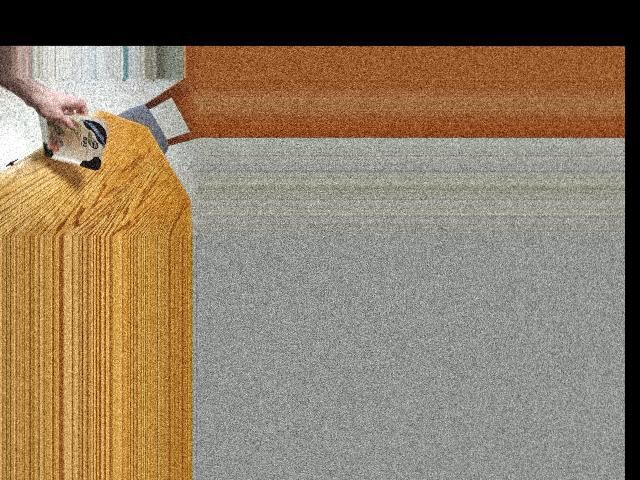cheese: (30, 114, 111, 165)
